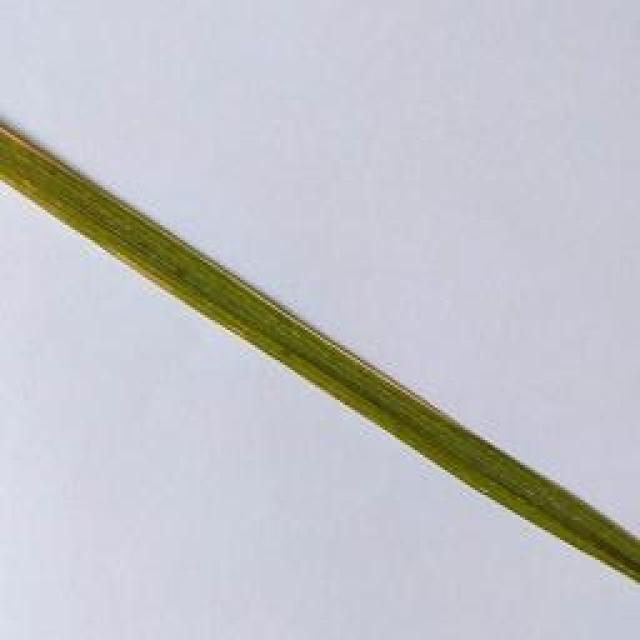Bacterial_Blight: (114, 197, 480, 446), (0, 118, 90, 190), (93, 243, 186, 301)
